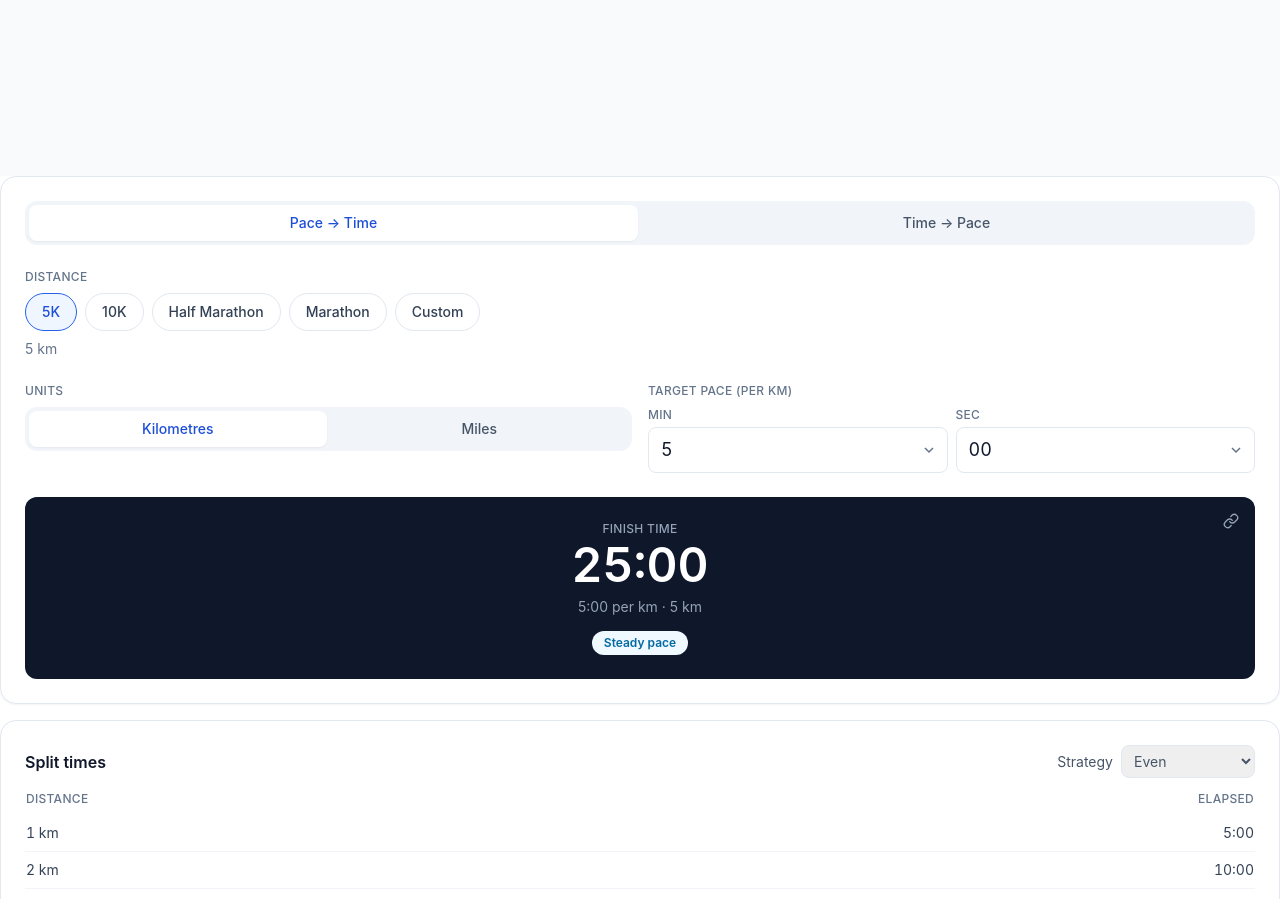
Scenario: pace zones › follows the pace into a different zone
This screenshot has width=1280, height=899.
(page scrolled)
Select "3" in the dropdown labelled "min" at (798, 450), box x1=648 y1=427 x2=948 y2=473
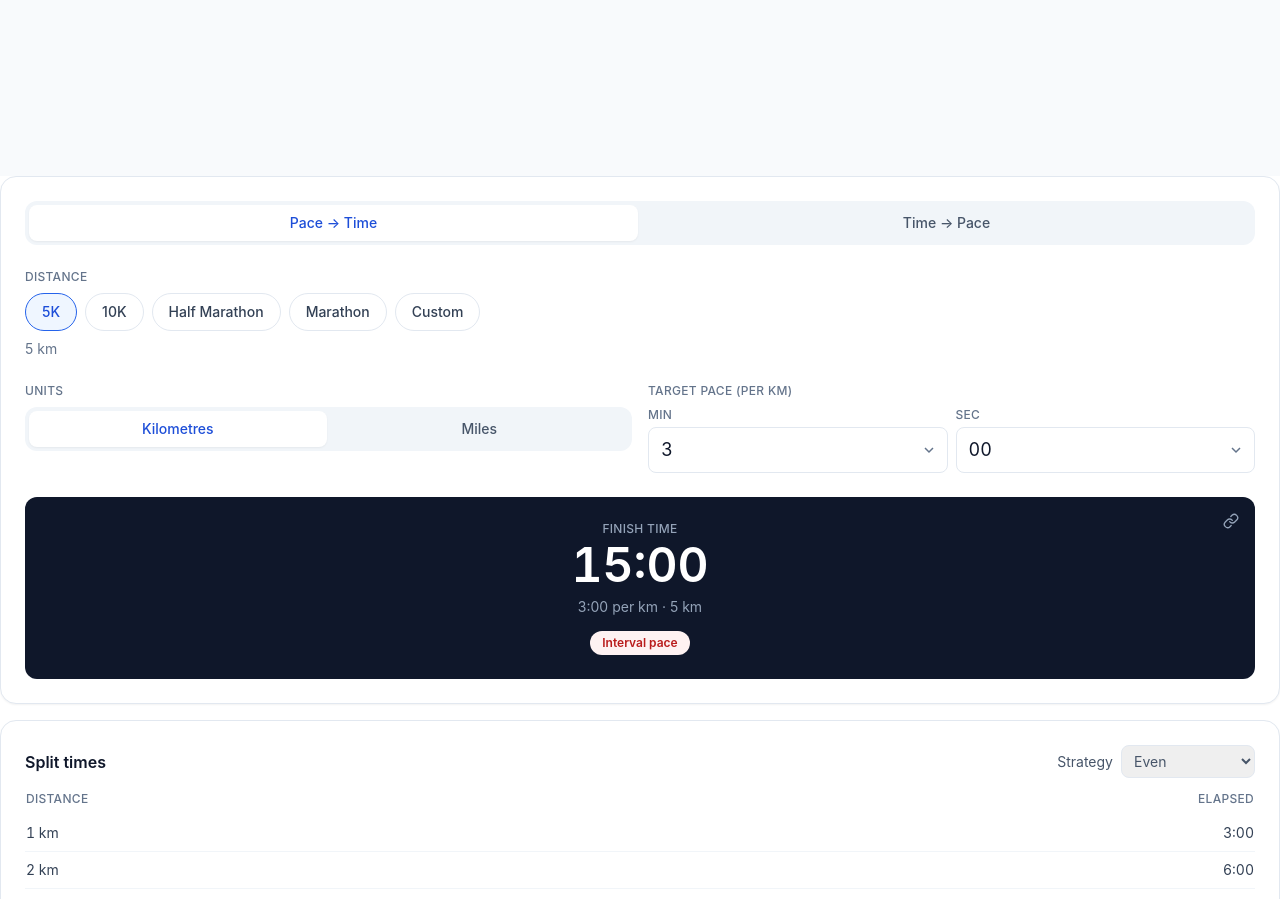
Result: the text "Interval pace" is shown at x1=590 y1=631 x2=690 y2=655
